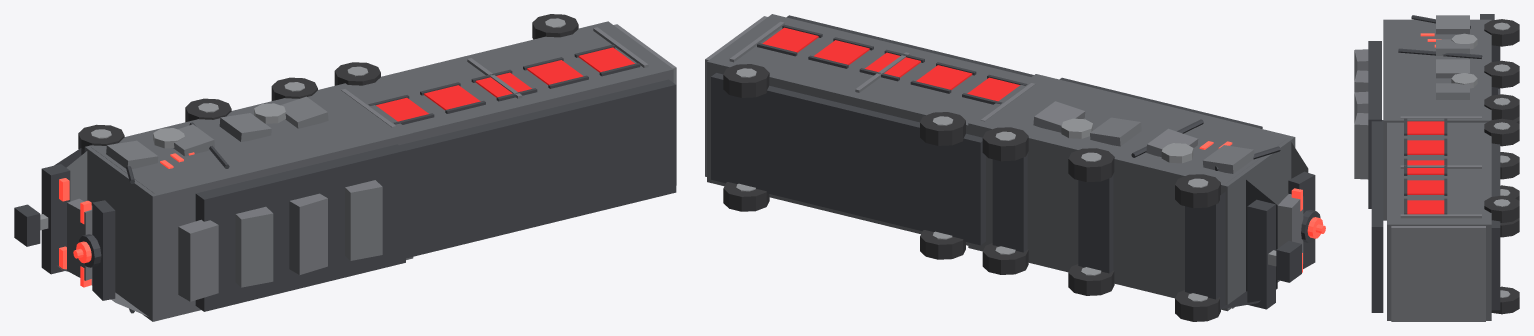
The model's file is robotic_train_lowpoly.glb.
3 views of the same model, side by side, from view 1: azimuth 30°, elevation 25°; view 2: azimuth 150°, elevation 25°; view 3: azimuth 270°, elevation 25° (orthographic). The views are drawn at different scales.
Visible parts, largest first — view 1: passenger_car_roof, engine_core, engine_roof, passenger_car_body, roof_module_0, roof_module_1, roof_module_2, roof_module_3, front_bumper, front_mask_upper, front_mask_mid, engine_nose (+17 smaller); view 2: engine_core, passenger_car_underbody, passenger_car_body, axle_block_1, axle_block_2, axle_block_0, front_bumper, engine_lower_nose, wheel_1_1, wheel_2_1, wheel_4_1, wheel_3_1 (+23 smaller); view 3: car_rear_cap, engine_core, passenger_car_body, passenger_car_roof, engine_roof, passenger_car_underbody, roof_module_3, wheel_0_1, wheel_1_1, wheel_3_1, wheel_4_1, wheel_2_1 (+22 smaller).
Boxes of the visible parts, x1,y1,x2,y2 form: passenger_car_roof: (399, 79, 676, 258); engine_core: (84, 83, 413, 321); engine_roof: (195, 144, 405, 311); passenger_car_body: (348, 21, 673, 141); roof_module_0: (178, 219, 218, 301); roof_module_1: (235, 206, 273, 287); roof_module_2: (289, 193, 327, 274); roof_module_3: (345, 180, 382, 260); front_bumper: (41, 164, 70, 274); front_mask_upper: (92, 200, 115, 300); front_mask_mid: (67, 198, 92, 280); engine_nose: (66, 147, 152, 316); engine_core: (968, 74, 1295, 311); passenger_car_underbody: (711, 73, 985, 245); passenger_car_body: (707, 14, 1030, 249); axle_block_1: (1078, 174, 1113, 273); axle_block_2: (992, 153, 1027, 252); axle_block_0: (1185, 200, 1219, 299); front_bumper: (1247, 199, 1275, 309); engine_lower_nose: (1220, 180, 1277, 309); wheel_1_1: (1068, 148, 1114, 181); wheel_2_1: (982, 127, 1028, 161); wheel_4_1: (723, 64, 769, 97); wheel_3_1: (920, 112, 965, 145); car_rear_cap: (1391, 226, 1485, 321); engine_core: (1383, 19, 1491, 220); passenger_car_body: (1387, 122, 1491, 320); passenger_car_roof: (1371, 120, 1383, 312); engine_roof: (1368, 41, 1381, 208); passenger_car_underbody: (1491, 143, 1500, 310); roof_module_3: (1354, 113, 1368, 179); wheel_0_1: (1484, 19, 1519, 46); wheel_1_1: (1484, 60, 1519, 88); wheel_3_1: (1484, 118, 1519, 146); wheel_4_1: (1484, 195, 1519, 222); wheel_2_1: (1484, 94, 1519, 120).
Bounding box in the file's own units: 14.16 × 3.28 × 4.27.
